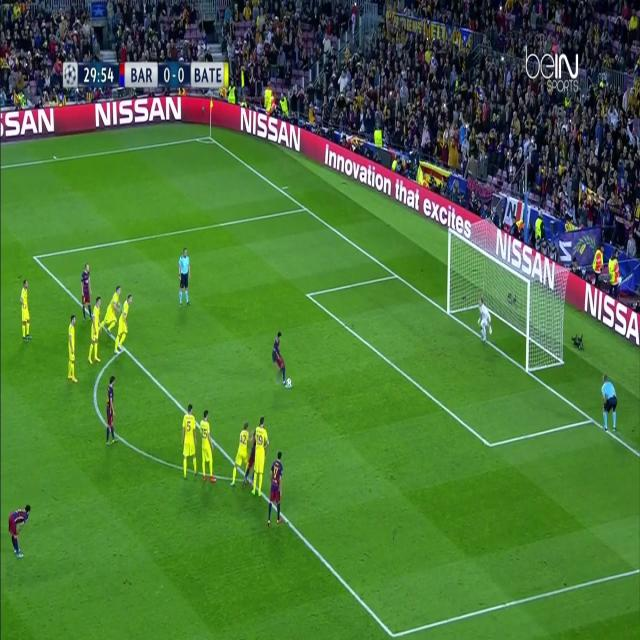Ball: (284, 375, 294, 393)
Goalkeeper: (476, 295, 491, 343)
Player: (230, 418, 253, 489), (252, 416, 270, 500), (8, 502, 33, 562), (180, 402, 198, 483), (267, 449, 285, 528), (112, 292, 133, 359), (200, 408, 217, 485), (102, 374, 118, 449), (87, 292, 102, 368), (99, 284, 121, 333), (66, 311, 79, 387), (18, 276, 32, 344), (80, 260, 94, 322), (271, 330, 286, 376)
Referee: (598, 372, 620, 434), (177, 243, 191, 310)
